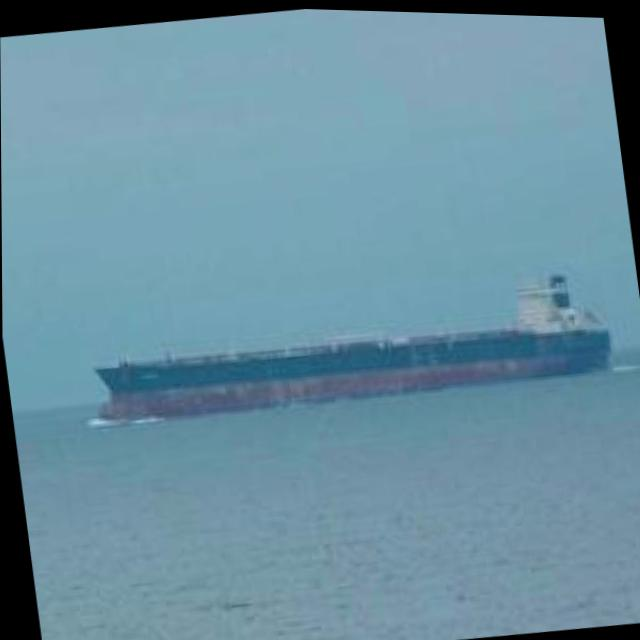ship2: (93, 265, 609, 419)
